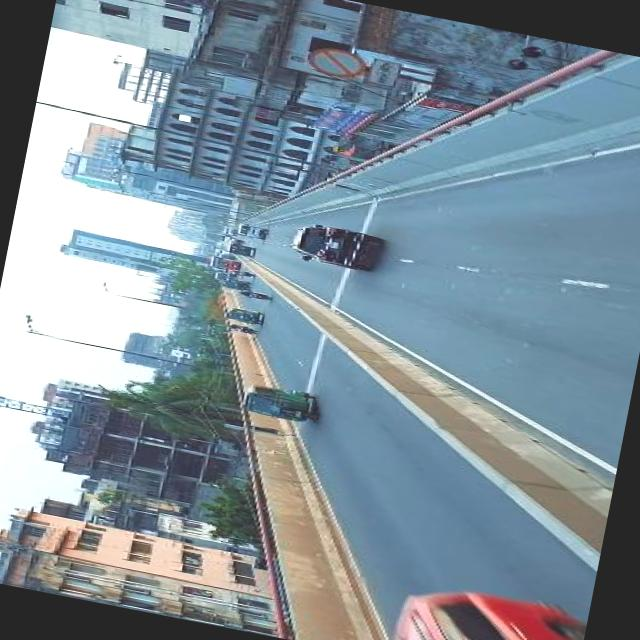bus: (206, 252, 240, 270)
car: (286, 216, 386, 274)
motorcycle: (237, 377, 322, 424), (224, 302, 268, 324), (233, 286, 274, 302), (222, 320, 260, 334), (220, 274, 250, 290), (226, 264, 254, 276)
truck: (233, 220, 268, 239)
